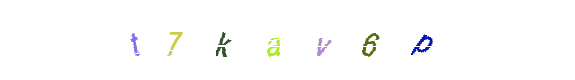6: (278, 0, 358, 80)
7: (217, 0, 297, 80)
A: (247, 0, 327, 80)
K: (225, 0, 305, 80)
P: (382, 0, 462, 80)
T: (191, 0, 271, 80)
V: (261, 0, 341, 80)
